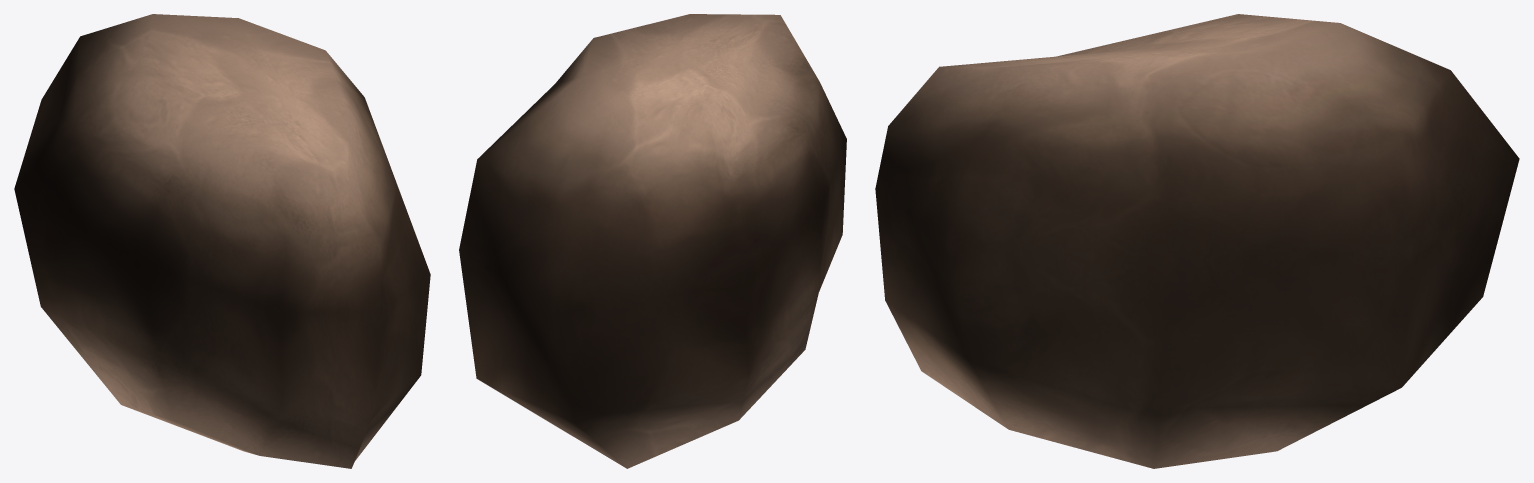
File: rock_3.fbx
3 views of the same model, side by side, from view 1: azimuth 30°, elevation 25°; view 2: azimuth 150°, elevation 25°; view 3: azimuth 270°, elevation 25° (orthographic). The views are drawn at different scales.
Visible parts, largest first — view 1: polySurface53; view 2: polySurface53; view 3: polySurface53.
Part boxes in pixels (<box>): polySurface53: <box>14,14,430,468</box>; polySurface53: <box>459,14,846,468</box>; polySurface53: <box>875,14,1519,468</box>.
Size of the model in its own units: 18.52 by 23.11 by 32.94.
